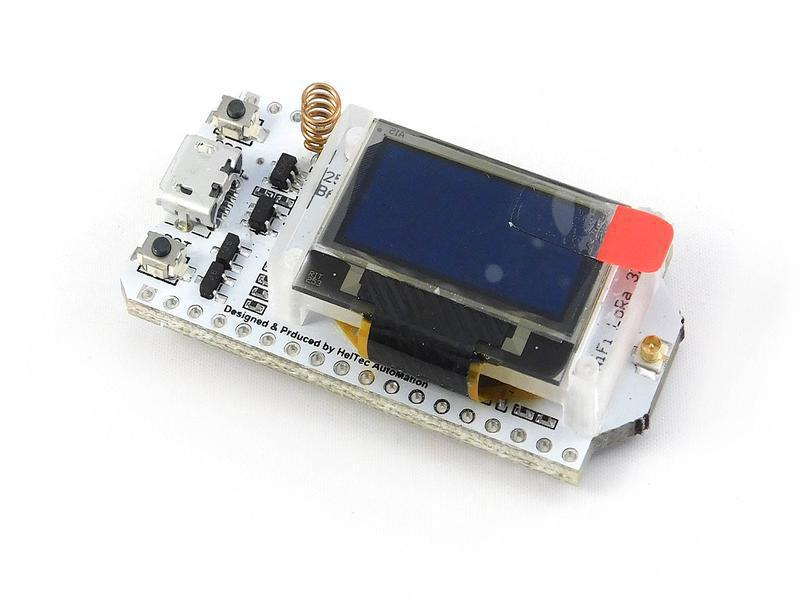Heltec_ESP32_Lora: (121, 74, 696, 497)
